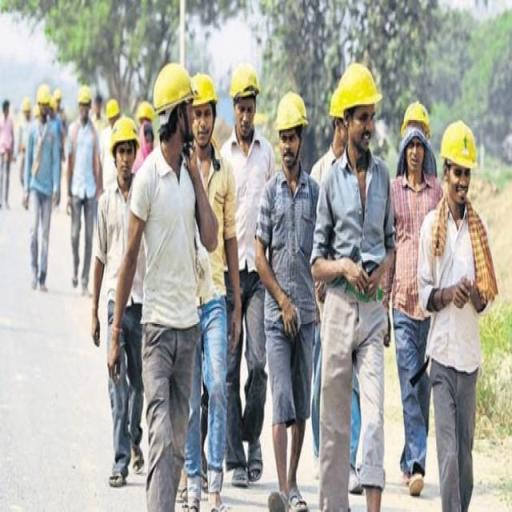Person: (316, 50, 400, 510), (417, 110, 497, 509), (136, 64, 202, 510), (258, 85, 324, 510), (212, 57, 273, 185), (389, 110, 442, 233)
helmet: (332, 55, 384, 115), (150, 60, 196, 110), (439, 116, 476, 174), (225, 62, 266, 106), (272, 86, 308, 136), (186, 68, 220, 110), (399, 95, 436, 131), (107, 118, 145, 152), (136, 96, 159, 118), (74, 82, 96, 104), (38, 84, 55, 111), (102, 91, 120, 116)
none: (132, 146, 218, 328), (321, 146, 393, 308), (424, 192, 490, 368), (262, 165, 327, 330), (227, 129, 275, 275), (388, 166, 437, 304)
